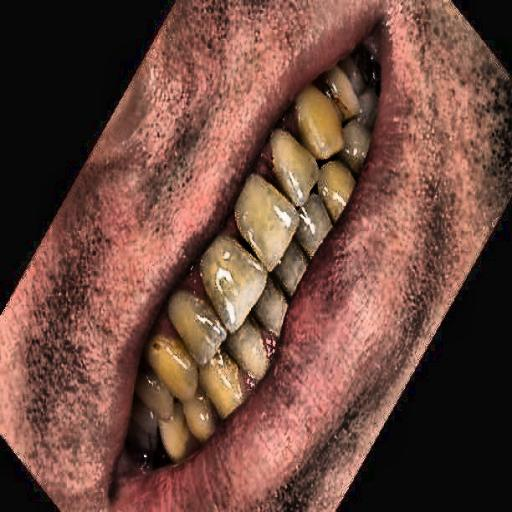Calculus: (135, 326, 192, 385), (315, 62, 363, 132)
